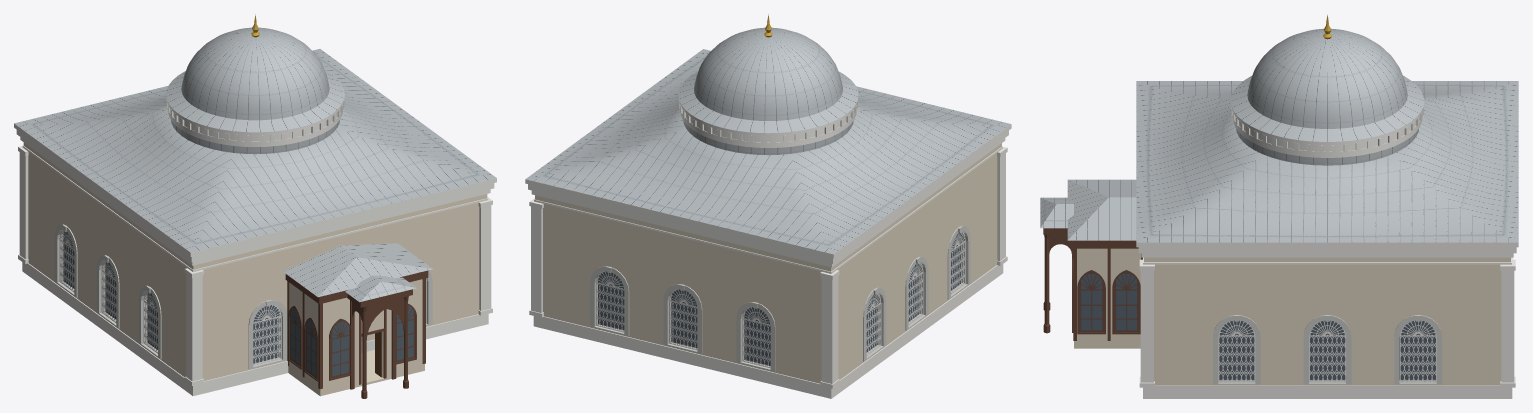
The model's file is orhan-gazi-turbesi_v06.glb.
3 renders of one model, left to right at view 1: azimuth 30°, elevation 25°; view 2: azimuth 150°, elevation 25°; view 3: azimuth 270°, elevation 25°, orthographic. The views are drawn at different scales.
Parts seen in each view (by area): view 1: Kubbe, Govde, Giris_Holu; view 2: Govde, Kubbe; view 3: Kubbe, Govde, Giris_Holu.
Part boxes in pixels (x1,y1,x2,y2): Kubbe: (14,14,496,252); Govde: (14,55,496,396); Giris_Holu: (283,243,432,398); Govde: (525,124,1011,398); Kubbe: (526,14,1010,254); Kubbe: (1136,15,1518,242); Govde: (1136,242,1518,398); Giris_Holu: (1040,179,1142,348).
Bounding box in the file's own units: 17.5 × 15.5 × 21.9.
12 materials, 4 textured.
